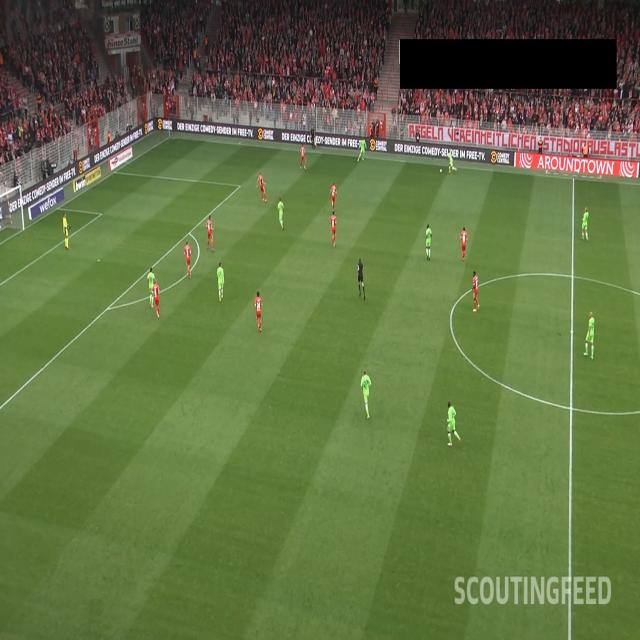ball: (439, 168, 443, 175)
